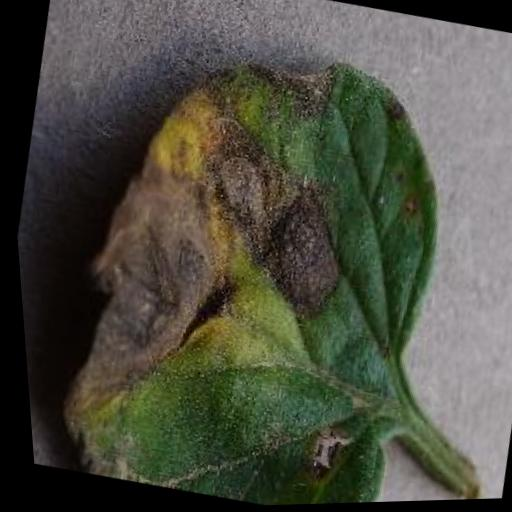Early Blight: (20, 13, 479, 512)
